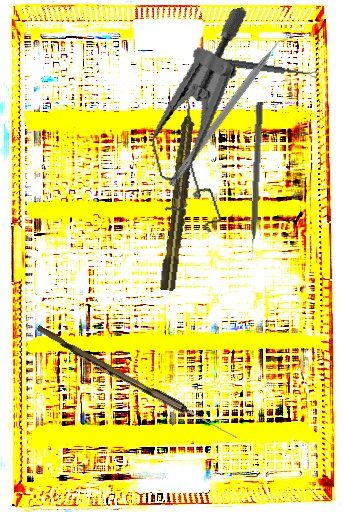Chopper: (167, 30, 297, 194)
Handpiece: (158, 97, 200, 292)
Pusher: (246, 101, 264, 262)
Speculum: (121, 6, 295, 242)
Surgical Spoon: (33, 325, 241, 442), (201, 55, 319, 80)
